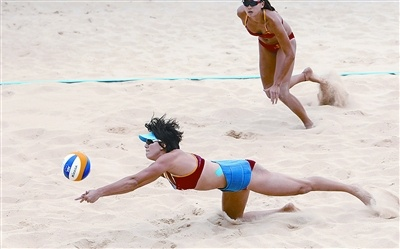falling: (80, 112, 374, 233)
